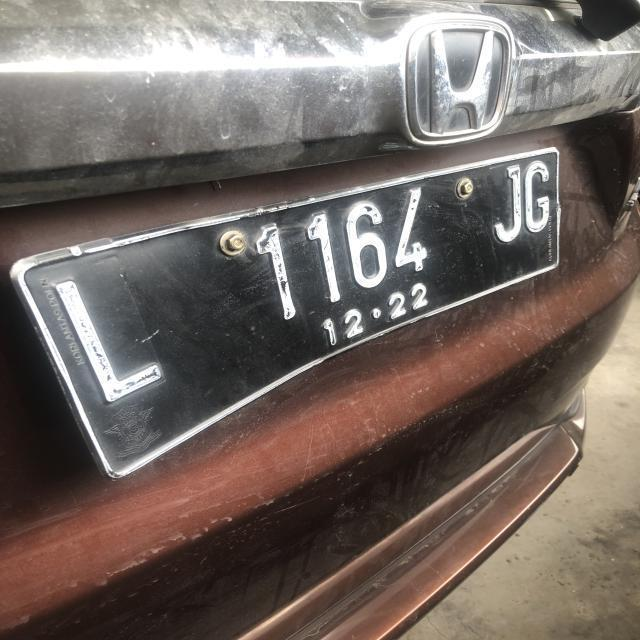1: (255, 222, 302, 326), (300, 212, 347, 304)
4: (392, 188, 430, 274)
6: (340, 200, 394, 289)
G: (521, 160, 556, 240)
J: (488, 164, 525, 242)
L: (56, 275, 169, 403)
